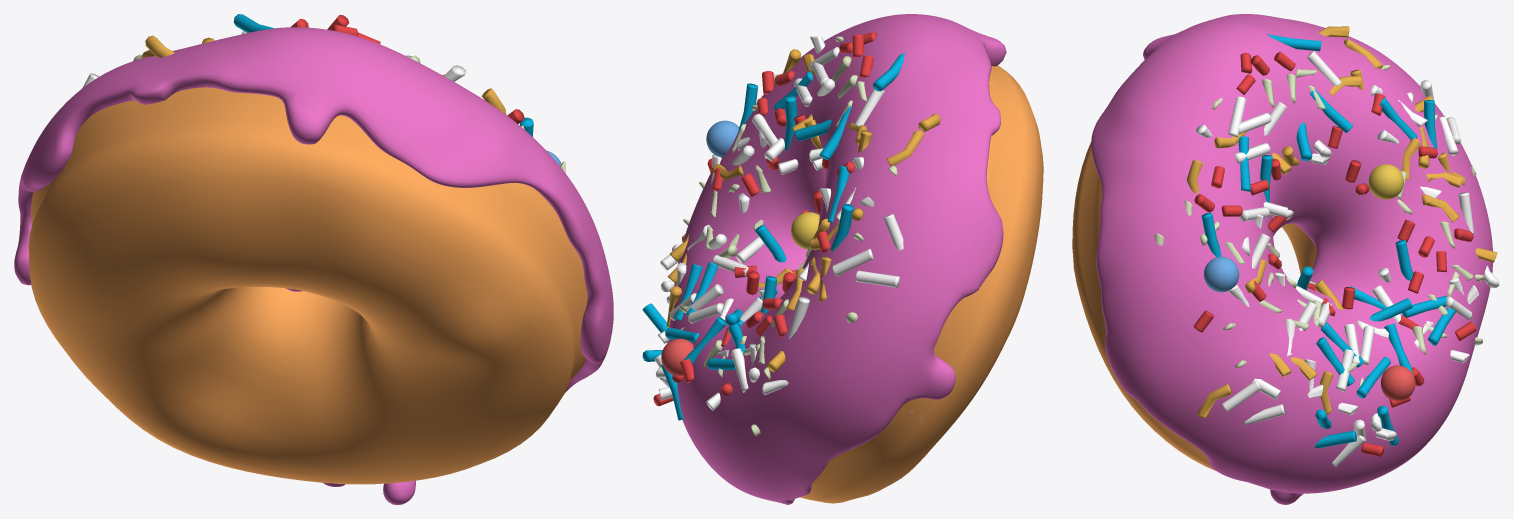
Rendered from donut-BMwp07xx.glb.
3 views of the same model, side by side, from view 1: azimuth 30°, elevation 25°; view 2: azimuth 150°, elevation 25°; view 3: azimuth 270°, elevation 25° (orthographic). The views are drawn at different scales.
Parts seen in each view (by area): view 1: donut, icing; view 2: icing, donut, Sphere.001, Sphere, Sphere.002; view 3: icing, donut, Sphere.001, Sphere.002, Sphere.
Part boxes in pixels (left/top/right/bottom): donut: left=28, top=87, right=587, bottom=484; icing: left=14, top=14, right=613, bottom=504; icing: left=642, top=14, right=1006, bottom=504; donut: left=800, top=65, right=1043, bottom=503; Sphere.001: left=706, top=120, right=739, bottom=157; Sphere: left=661, top=338, right=693, bottom=375; Sphere.002: left=791, top=212, right=819, bottom=249; icing: left=1091, top=14, right=1499, bottom=504; donut: left=1072, top=142, right=1316, bottom=470; Sphere.001: left=1203, top=256, right=1239, bottom=292; Sphere.002: left=1368, top=164, right=1403, bottom=199; Sphere: left=1381, top=365, right=1415, bottom=400.
Bounding box in the file's own units: 0.9109 × 0.9877 × 0.9042.
Materials: 10 (1 with a texture image).
